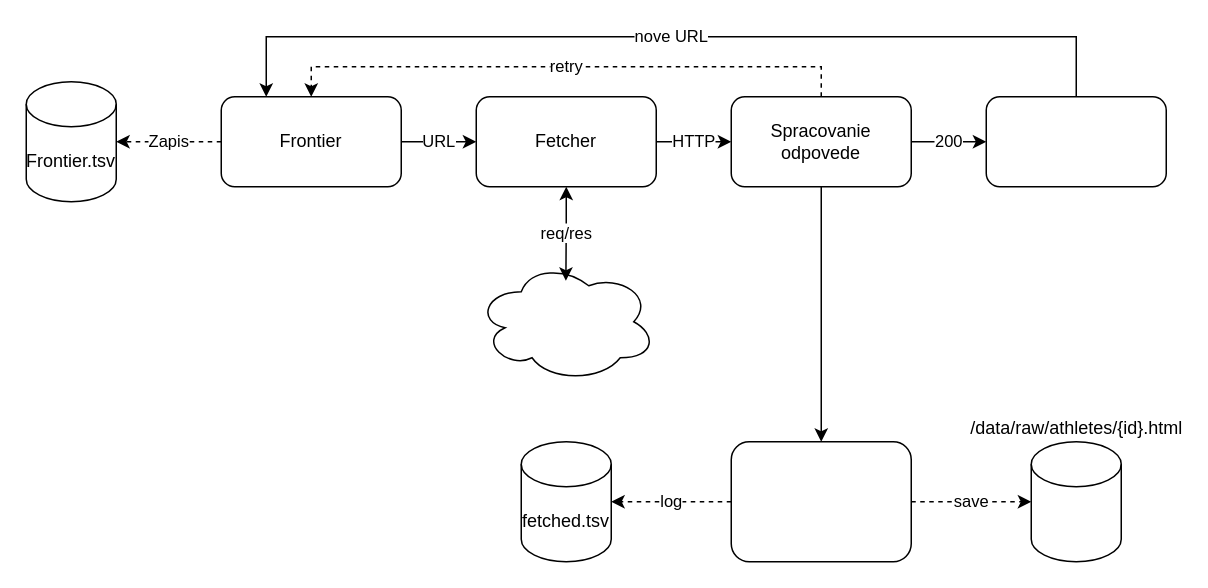
The diagram is 1208 pixels wide and 588 high, and some of its shapes have lost their labels. The box of each missing label's shape, as (x1, y1, x2, y2) in pixels:
Extraktor linkov: (985, 95, 1166, 187)
Filter - url? - biography? - medal?: (730, 440, 911, 562)
Oplympedia.org: (475, 260, 656, 382)
